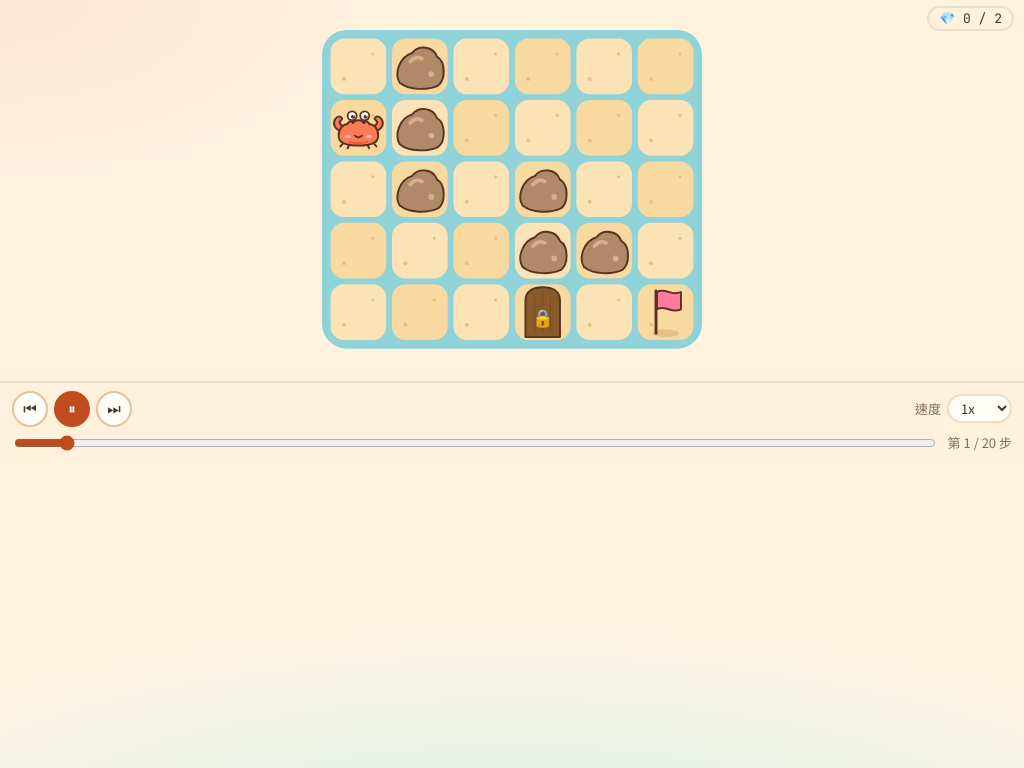
Test: F4 GridWorld › 自動播放與播放控制 › 可視化區焦點時按 ArrowRight
Click the button named "暫停": (72, 409) x1=54 y1=391 x2=90 y2=427
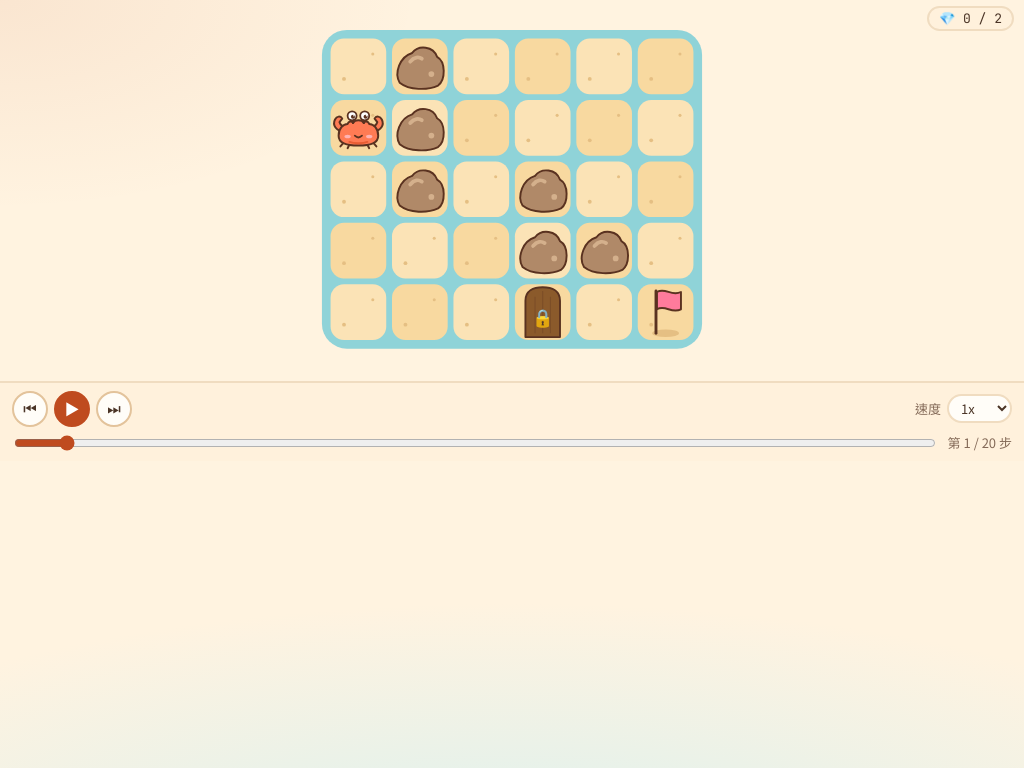
Set the slider named "進度" to "5": (248, 443) x1=14 y1=435 x2=936 y2=451
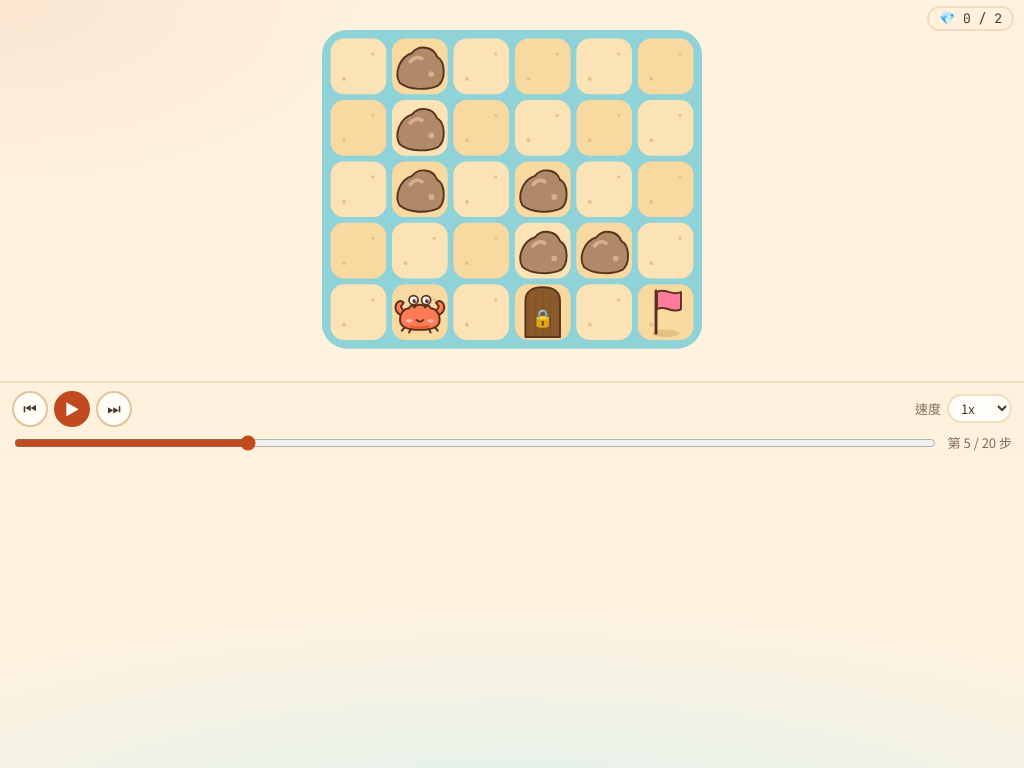
Press ArrowRight in the element with test id "grid-world"
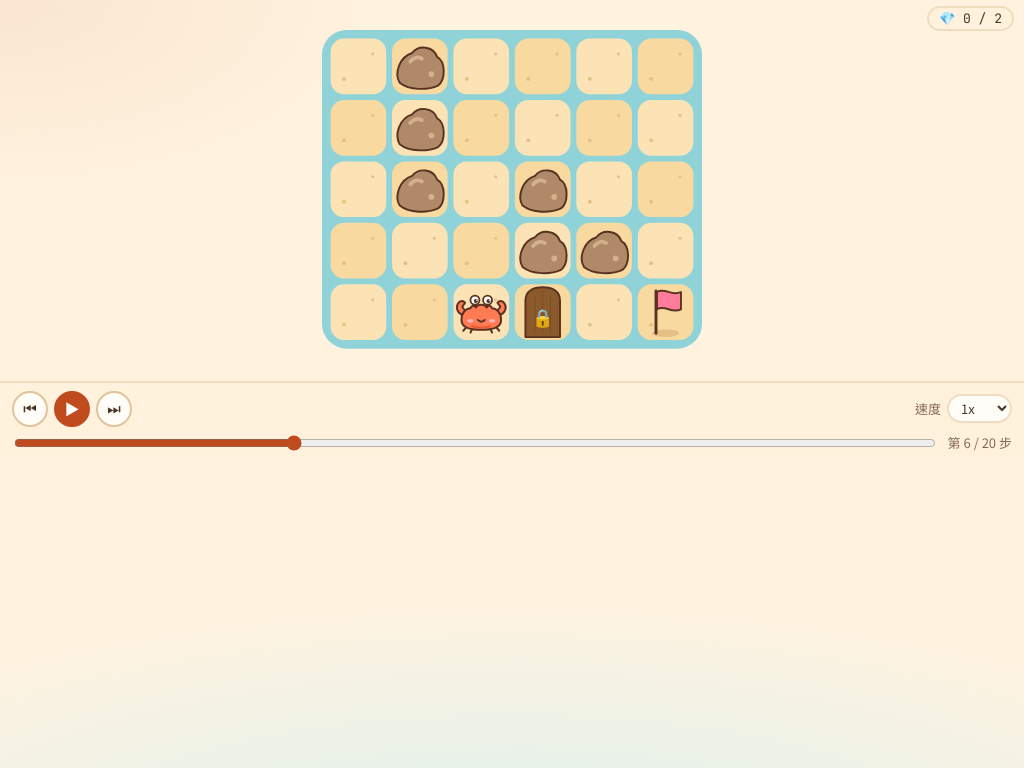
Check: the text with test id "step-label" reads "第 6 / 20 步", box x1=948 y1=433 x2=1012 y2=452
